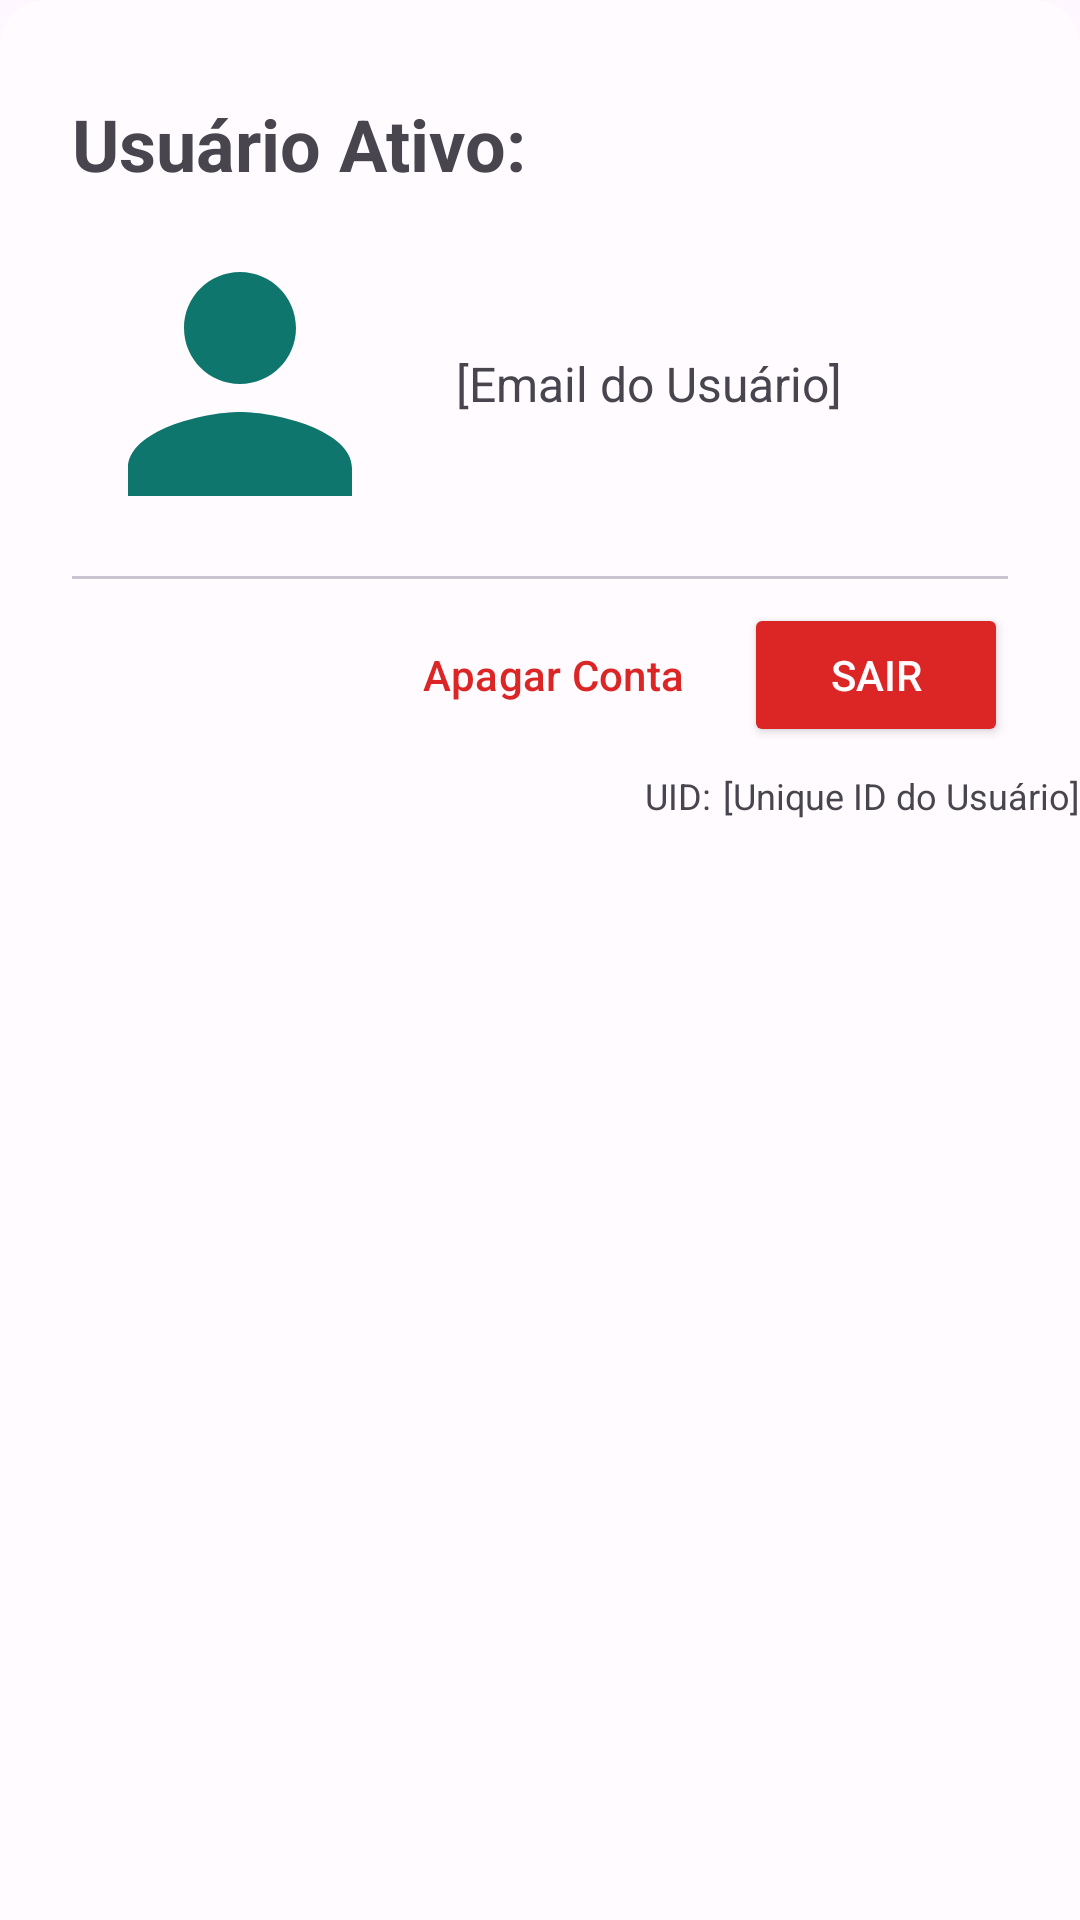

Where icons sit on this 1080 x 1920 app screen, as (x1, y1, x2, y2):
Imagem de Perfil da Conta do Usuário: (128, 272, 352, 496)
